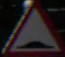Speed Breaker ahead: (8, 6, 58, 50)
